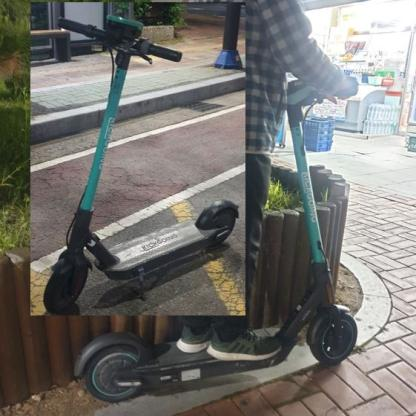kickboard: (78, 105, 358, 404), (43, 15, 239, 315)
